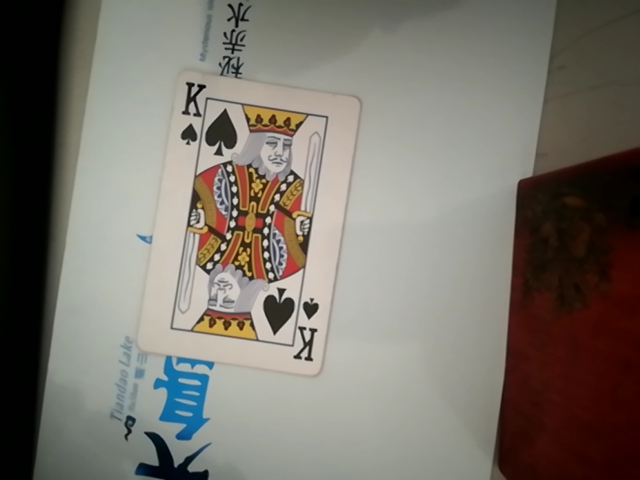ht k: (161, 76, 352, 377)
